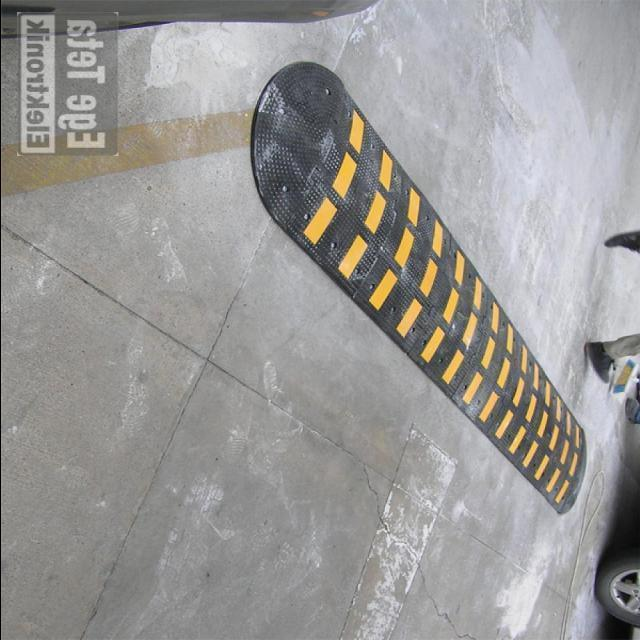speedbreaker: (248, 60, 588, 512)
